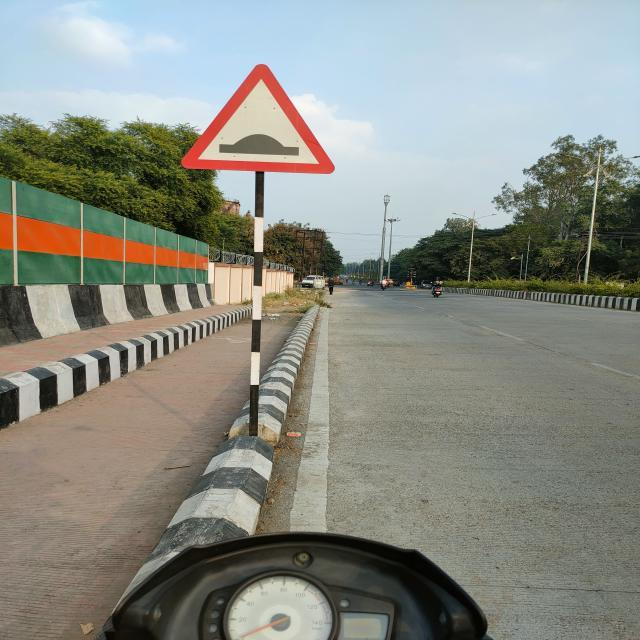hump or rough road: (176, 58, 341, 176)
